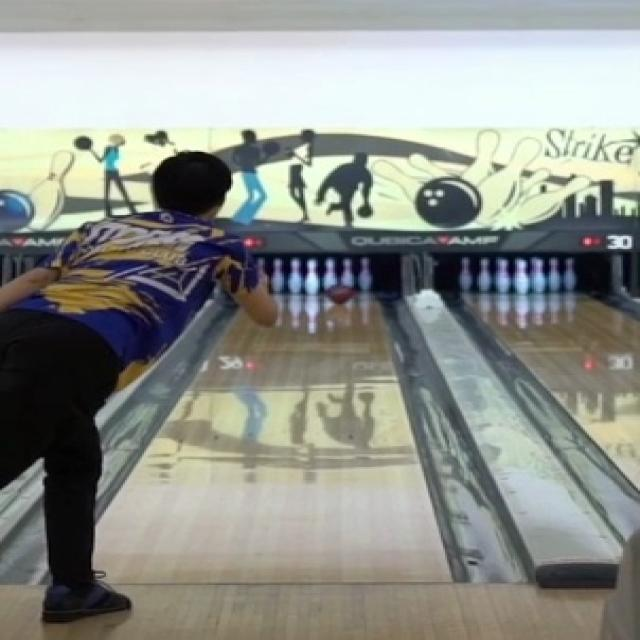alley: (100, 292, 449, 583)
balls: (326, 286, 354, 304)
bottle: (266, 254, 378, 298)
